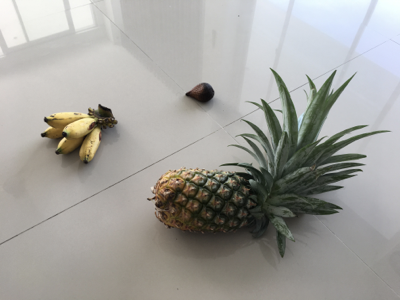banana: (42, 104, 117, 167)
pineapple: (150, 69, 389, 256)
snake fruit: (186, 81, 215, 104)
